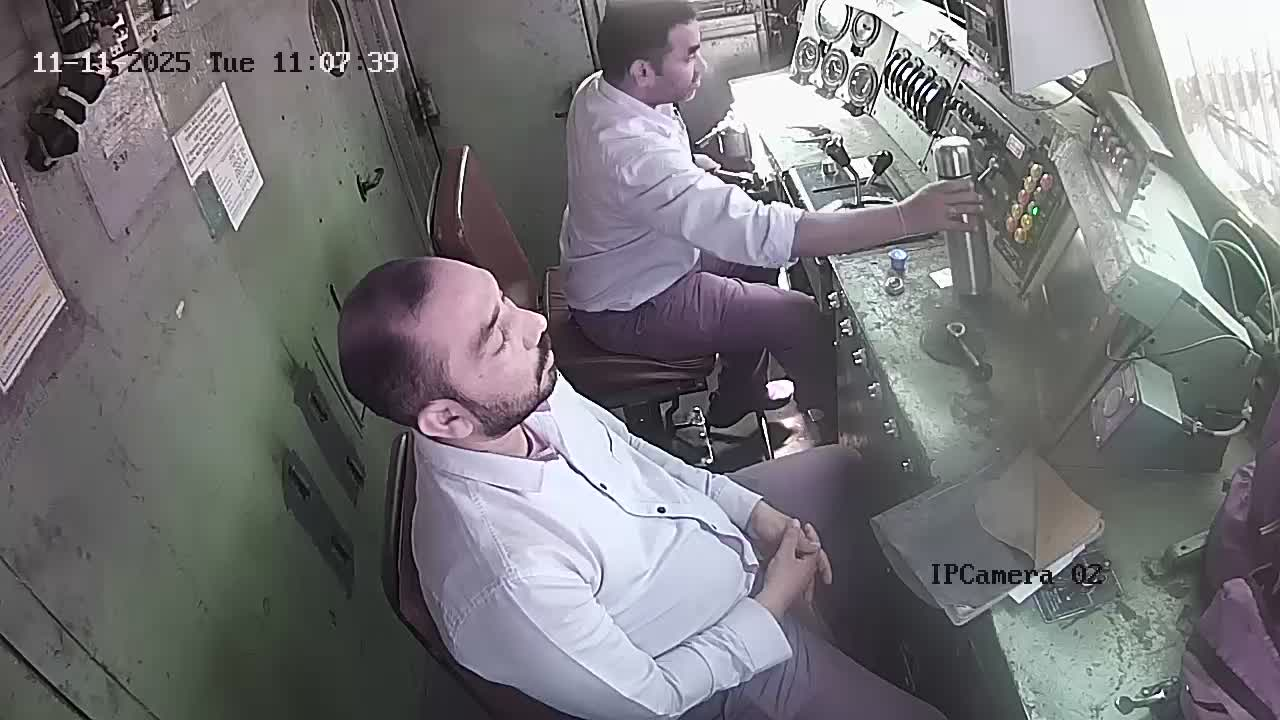person: (205, 173, 691, 662), (486, 36, 845, 396)
